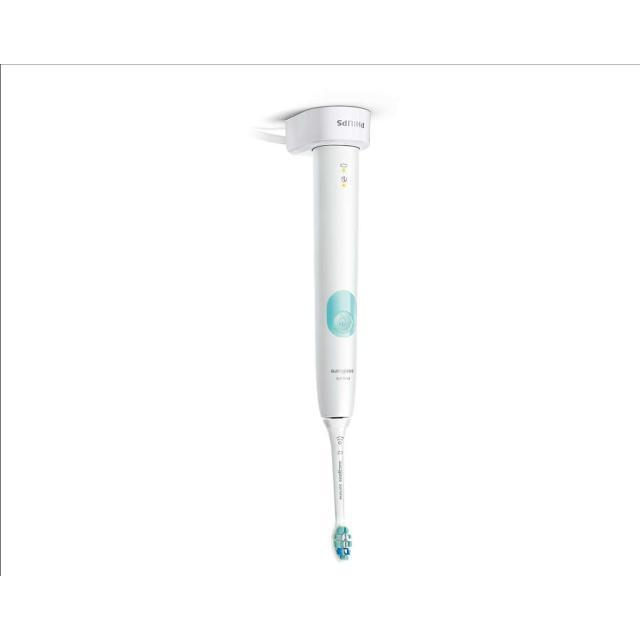toothbrush: (290, 358, 390, 576)
